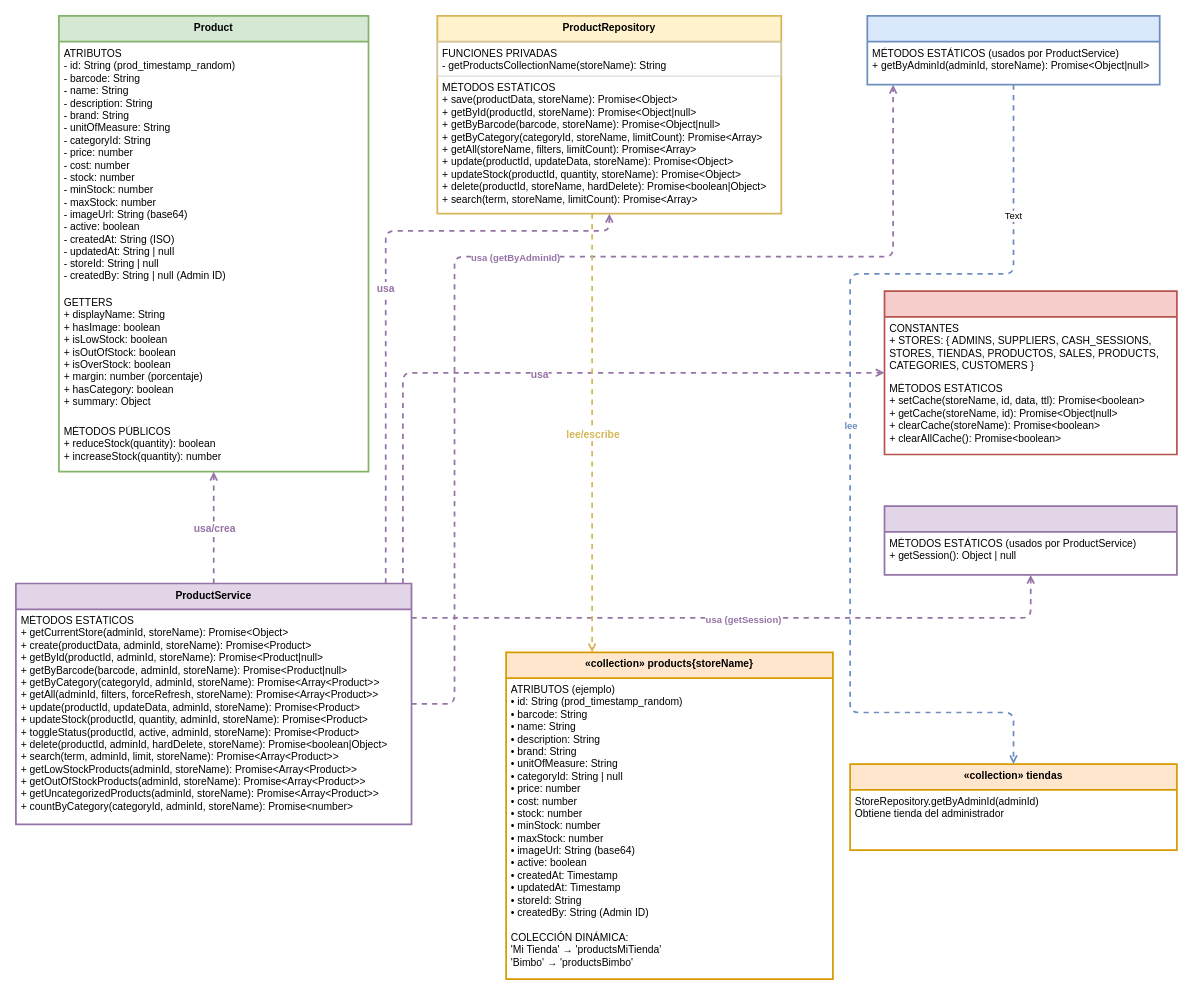
Some shapes in this 1192 by 996 pixel diagram are drawn without their labels. The shapes that lost their labels are listed below. From the top down, each one's box as (x1, y1, x2, y2) in pixels, then its label:
(866, 15, 1160, 85): StoreRepository
(883, 290, 1177, 455): CacheService
(883, 505, 1177, 575): AdminService
